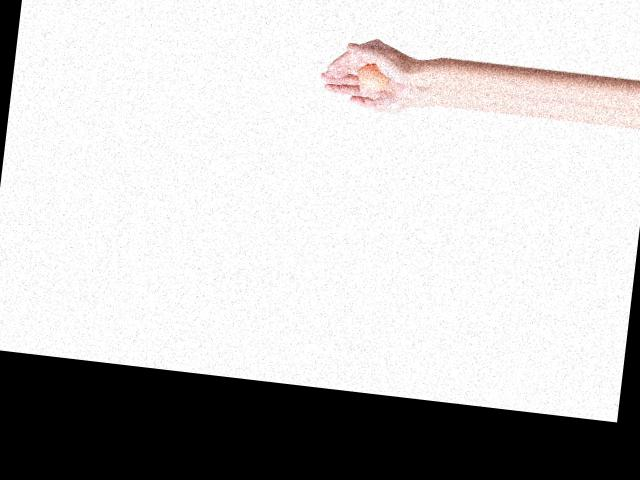egg: (356, 62, 389, 91)
